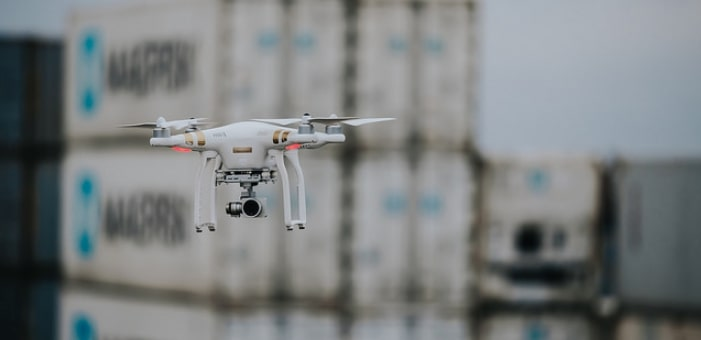drone: (108, 113, 397, 237)
